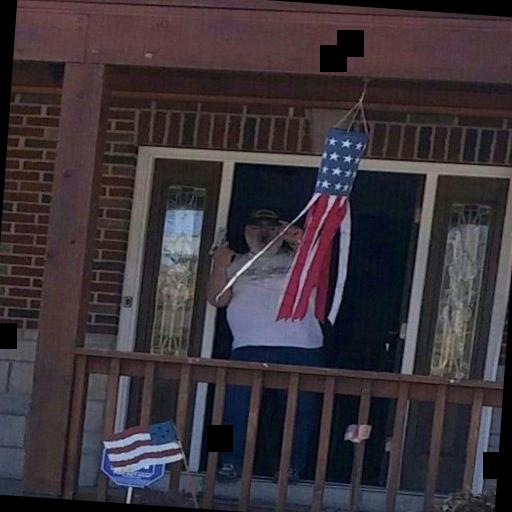Handgun: (196, 225, 242, 265)
